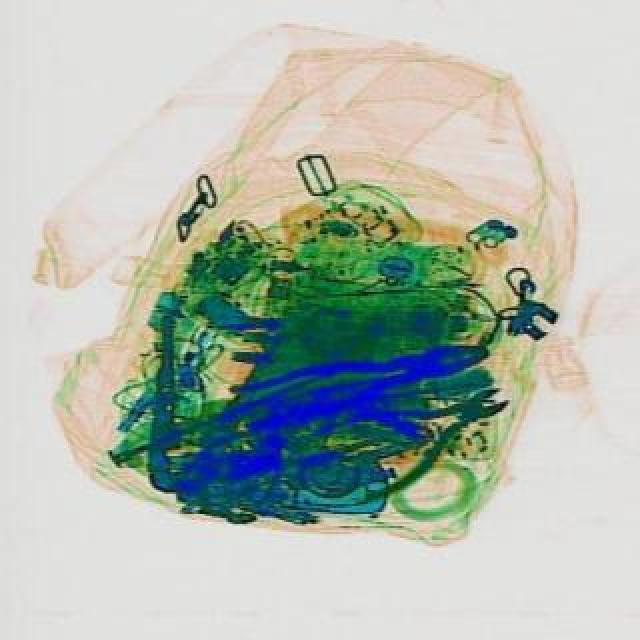wrench: (304, 352, 522, 508), (222, 320, 494, 436)
